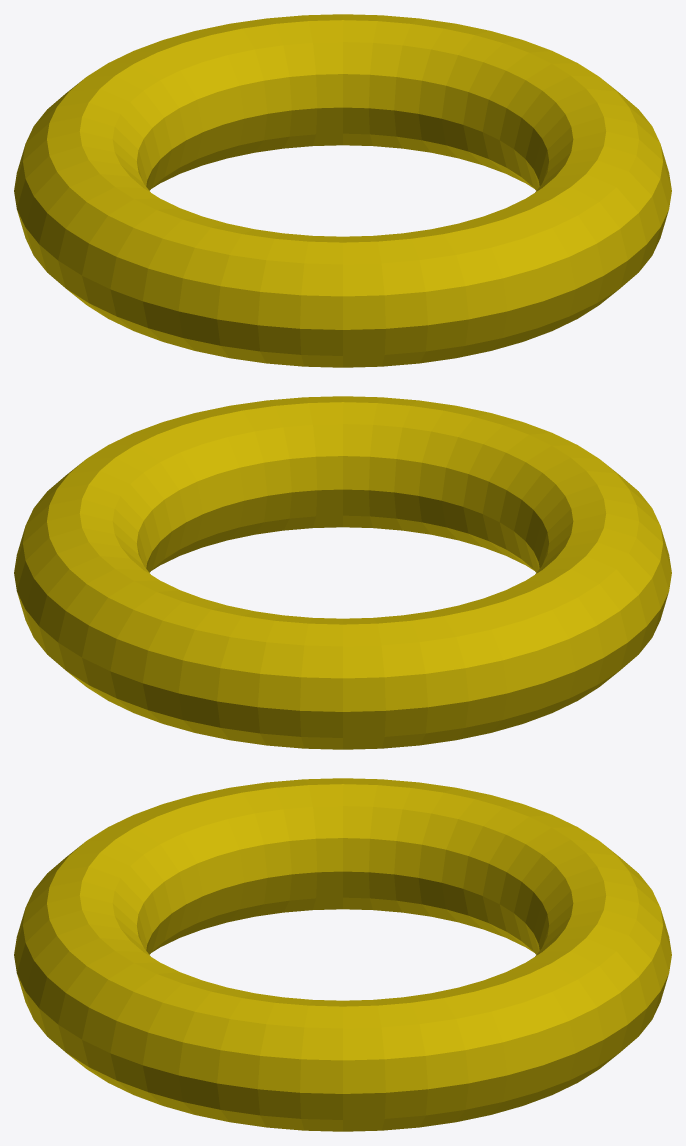
File: halo.obj
3 renders of one model, top to bottom at view 1: azimuth 30°, elevation 25°; view 2: azimuth 150°, elevation 25°; view 3: azimuth 270°, elevation 25°, orthographic.
Visible parts, largest first — view 1: Torus; view 2: Torus; view 3: Torus.
Boxes of the visible parts, x1,y1,x2,y2 form: Torus: (14, 14, 671, 367); Torus: (14, 396, 671, 749); Torus: (14, 778, 671, 1131).
Size of the model in its own units: 3.55 by 0.7095 by 3.55.
